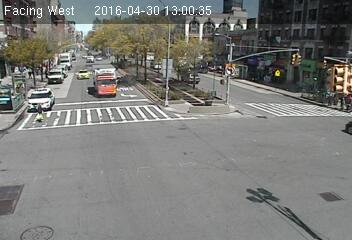neg: (207, 90, 227, 116), (182, 66, 195, 84)
pos: (29, 99, 47, 123)
